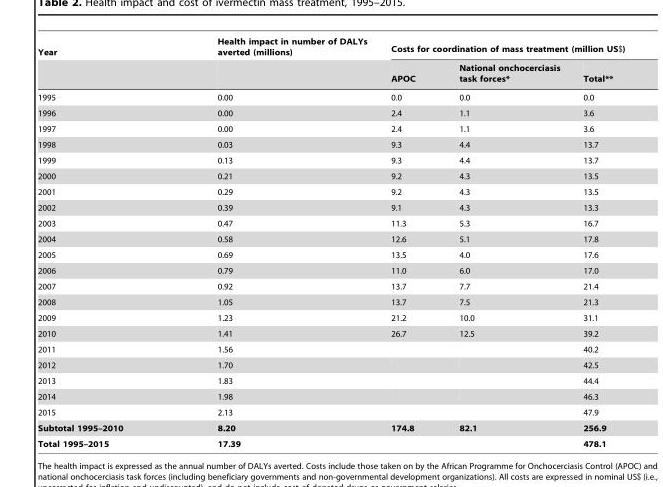table: (37, 36, 624, 448)
table column: (169, 36, 378, 448), (436, 36, 570, 448), (37, 36, 169, 448), (378, 36, 436, 448), (570, 36, 624, 448)
table column header: (37, 36, 624, 87)
table row: (37, 59, 624, 87), (37, 36, 624, 59), (37, 87, 624, 105), (37, 120, 624, 136), (37, 136, 624, 152), (37, 152, 624, 168), (37, 183, 624, 199), (37, 199, 624, 215), (37, 215, 624, 231), (37, 246, 624, 262), (37, 262, 624, 278), (37, 278, 624, 294), (37, 309, 624, 325), (37, 325, 624, 341), (37, 341, 624, 357), (37, 372, 624, 388), (37, 388, 624, 404), (37, 404, 624, 420), (37, 105, 624, 120), (37, 168, 624, 183), (37, 231, 624, 246), (37, 294, 624, 309), (37, 357, 624, 372), (37, 420, 624, 435), (37, 435, 624, 448)
table spanning cell: (169, 36, 378, 87), (37, 36, 169, 87), (378, 36, 624, 59)
